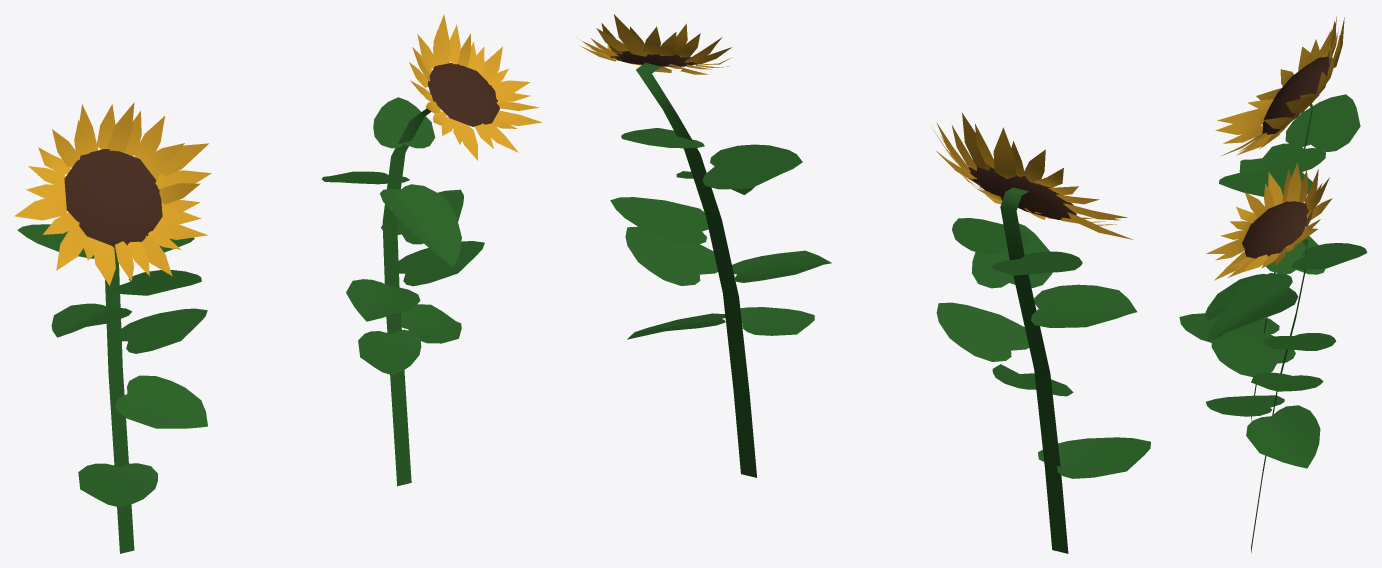
The model's file is Sunflower.fbx.
3 views of the same model, side by side, from view 1: azimuth 30°, elevation 25°; view 2: azimuth 150°, elevation 25°; view 3: azimuth 270°, elevation 25° (orthographic). The views are drawn at different scales.
Visible parts, largest first — view 1: Sunflower 1, Sunflower 2; view 2: Sunflower 1, Sunflower 2; view 3: Sunflower 2, Sunflower 1.
Part boxes in pixels (x1,y1,x2,y2): Sunflower 1: (14,102,211,553); Sunflower 2: (322,14,542,486); Sunflower 1: (931,113,1150,553); Sunflower 2: (576,14,831,477); Sunflower 2: (1206,163,1367,552); Sunflower 1: (1179,16,1360,420).
Bounding box in the file's own units: 182 × 145 × 60.13.
